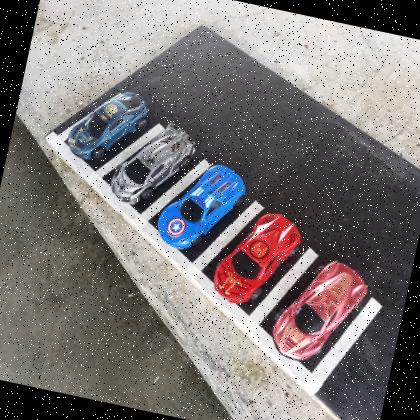Car: (268, 252, 372, 372), (209, 203, 307, 315), (154, 154, 250, 260), (107, 113, 200, 214), (64, 80, 156, 172)
